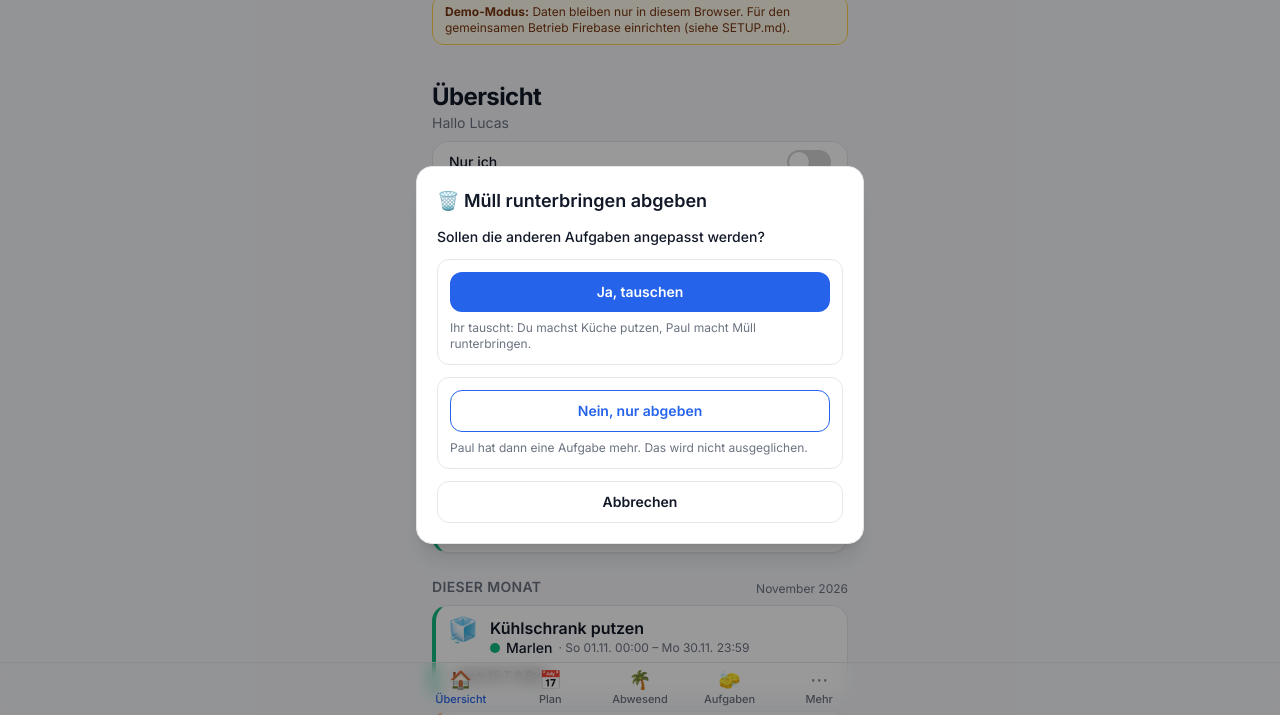
App-Smoke (Demo-Modus, jsdom) › zeigt Login, meldet an und rendert die Übersicht mit Aufgaben
Earlier steps of the test are not shown.
Later steps or results of the test are not shown.
Check: the text "Sollen die anderen Aufgaben angepasst werden?" is shown, box top-left (437, 228), bottom-right (765, 245)
Check: the text "Paul hat dann eine Aufgabe mehr. Das wird nicht ausgeglichen." is shown, box top-left (450, 440), bottom-right (830, 456)
Click the button "Nein, nur abgeben". click: (640, 411)
box: top-left (450, 390), bottom-right (830, 432)
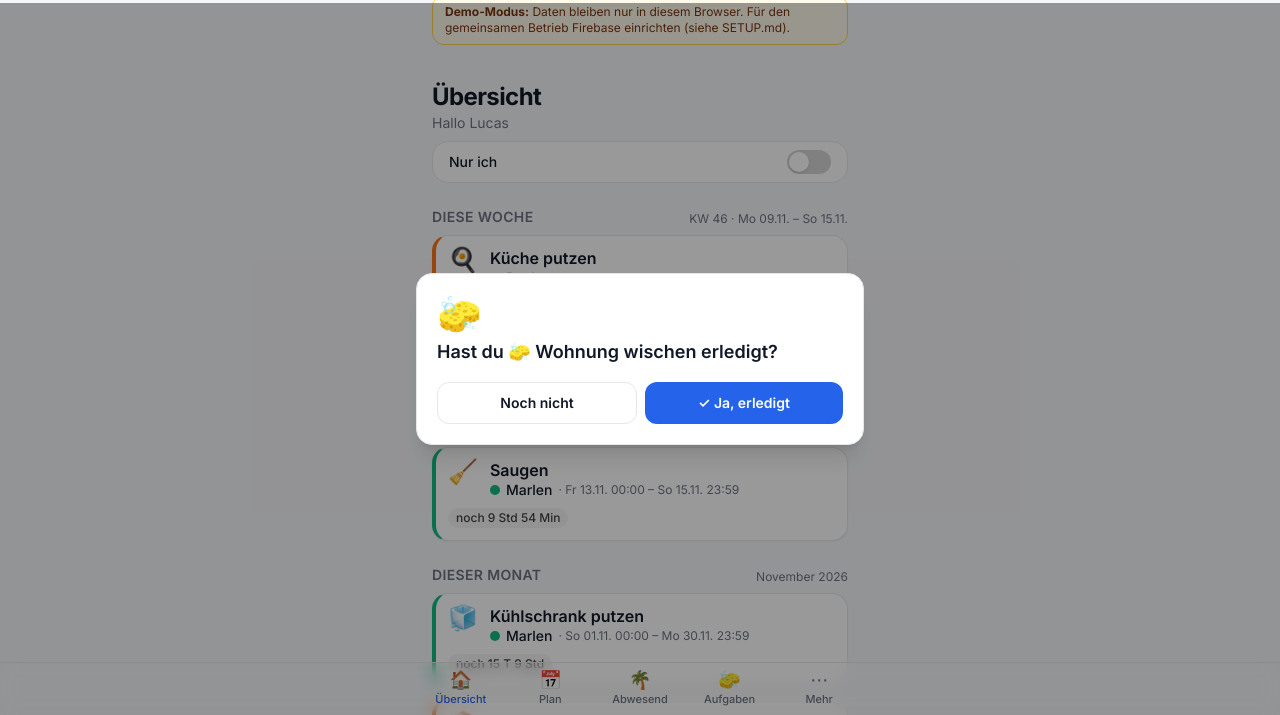
Check: the text with class "font-medium" reads "Paul", box top-left (506, 269), bottom-right (535, 286)
Check: the text "erledigt?" is shown, box top-left (696, 341), bottom-right (778, 362)
Click the button "✓ Ja, erledigt". click: (744, 403)
box: top-left (645, 382), bottom-right (843, 424)
(page scrolled)
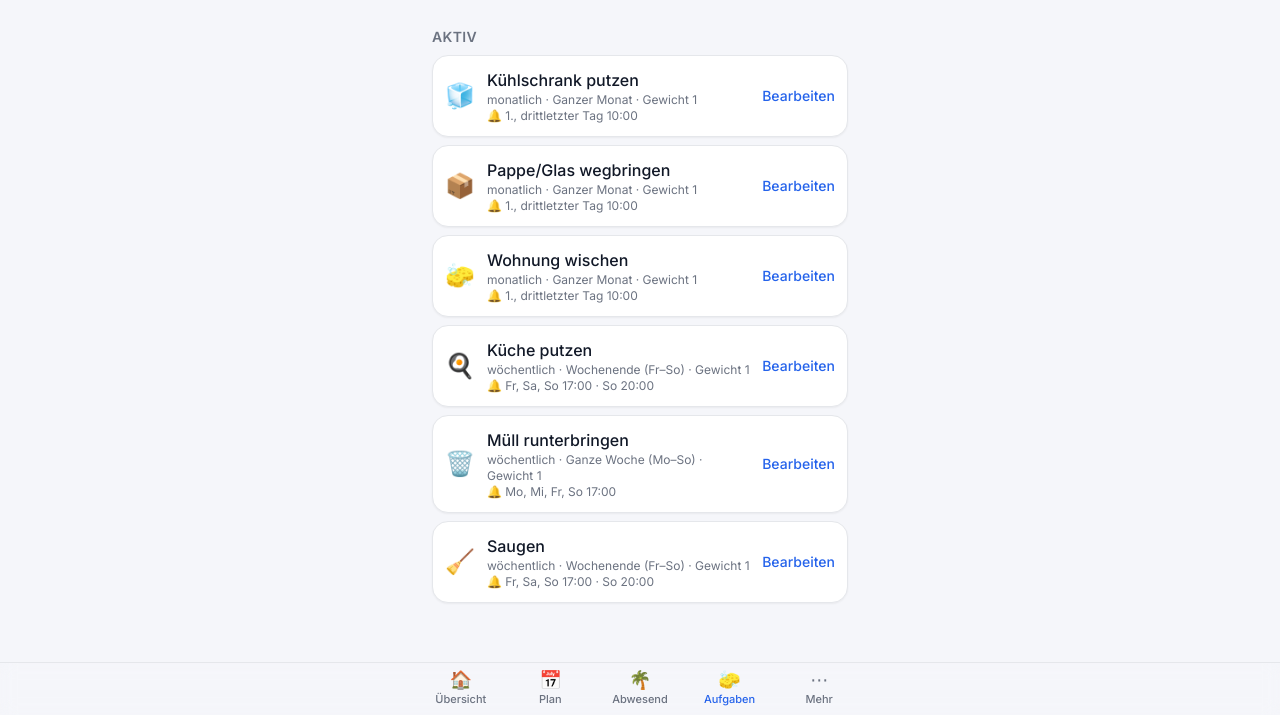
Check: the text with test id "reminder-summary" below "Saugen" reads "🔔 Fr, Sa, So 17:00 · So 20:00", box top-left (487, 574), bottom-right (654, 589)
Click the button "Bearbeiten" in the row of "Saugen". click: (799, 562)
box: top-left (762, 552), bottom-right (835, 572)
(page scrolled)
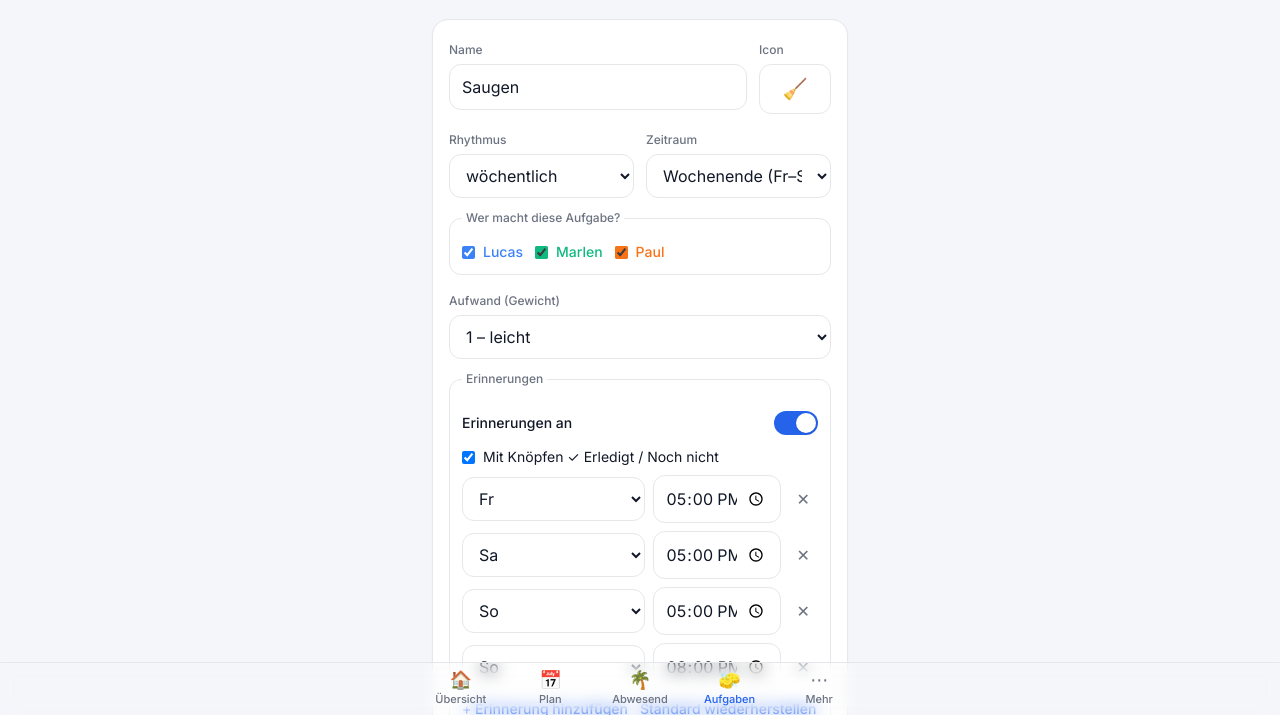
Click the button named "Erinnerung entfernen". click: (803, 499)
box: top-left (789, 483), bottom-right (818, 515)
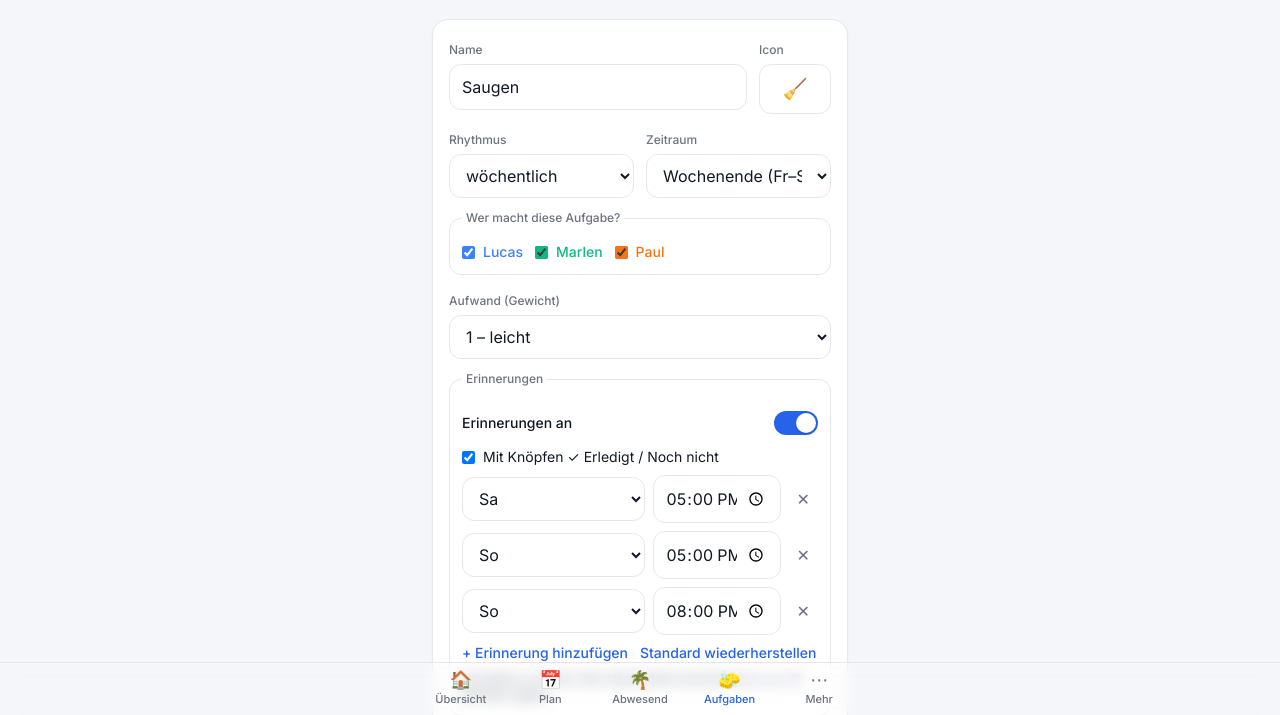
Click the button named "Erinnerung entfernen". click: (803, 499)
box: top-left (789, 483), bottom-right (818, 515)
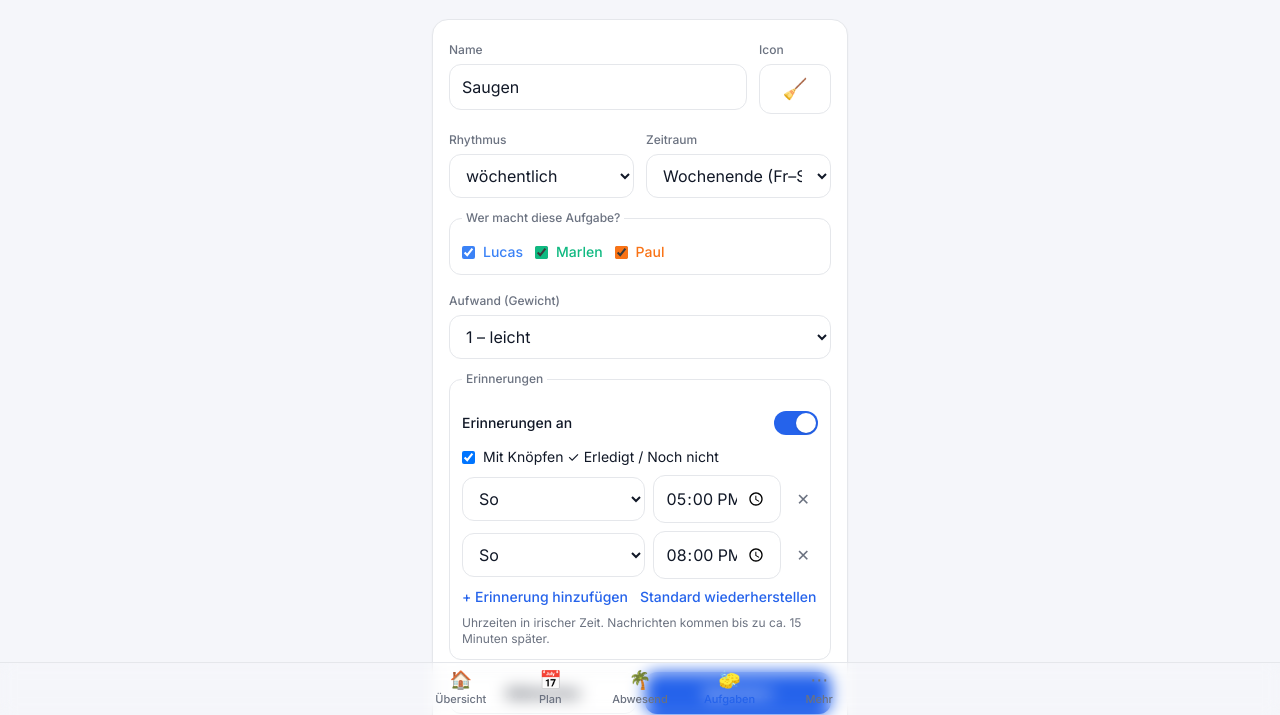
Click the button named "Erinnerung entfernen". click: (803, 499)
box: top-left (789, 483), bottom-right (818, 515)
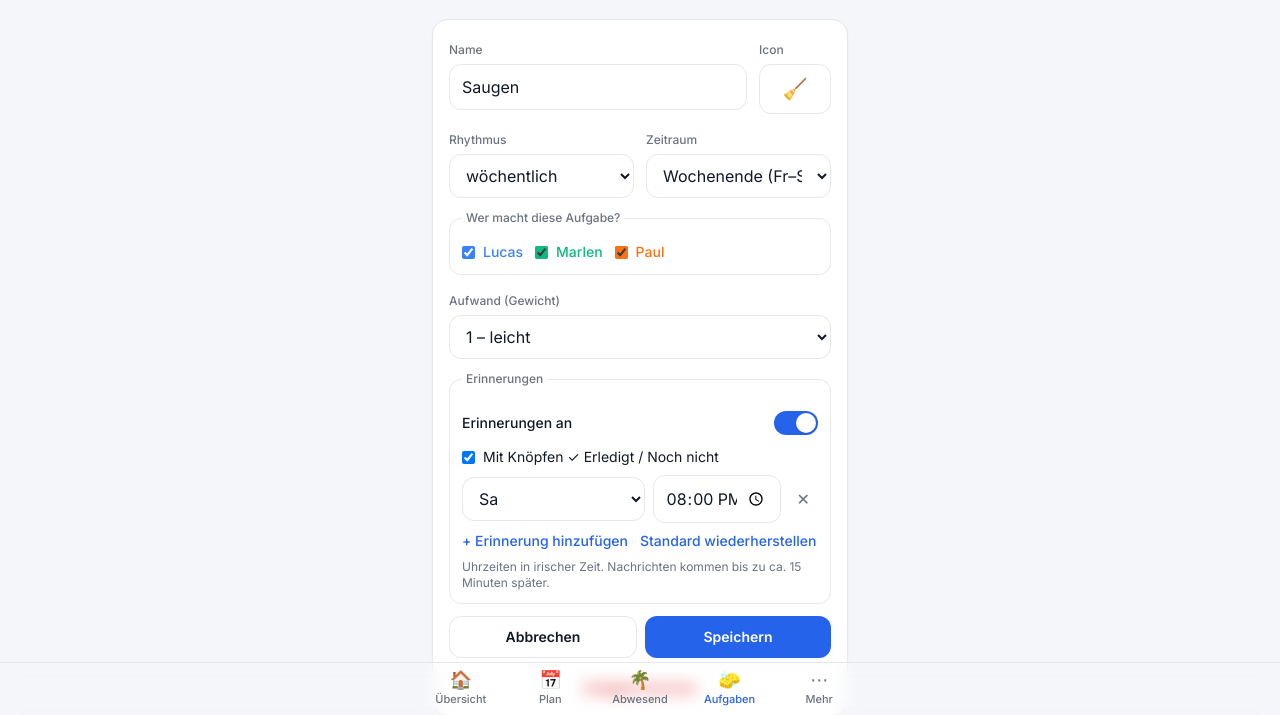
Check: the number of list items with test id "reminder-slot" is 1, box top-left (462, 475), bottom-right (818, 523)
